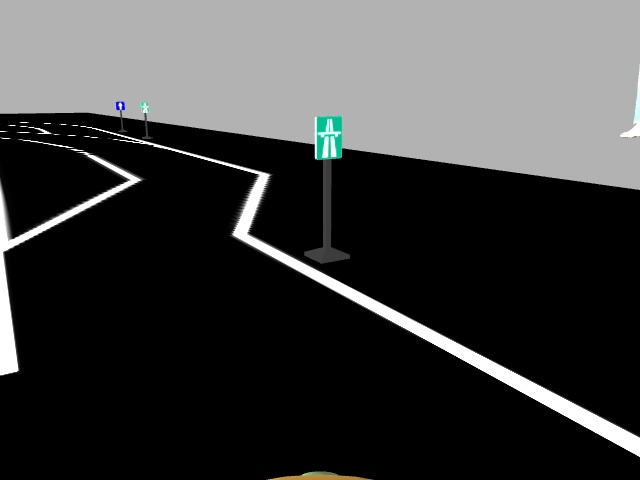HighwayEntrance: (314, 116, 342, 158)
HighwayExit: (138, 101, 149, 113)
OneWay: (115, 101, 124, 110)
